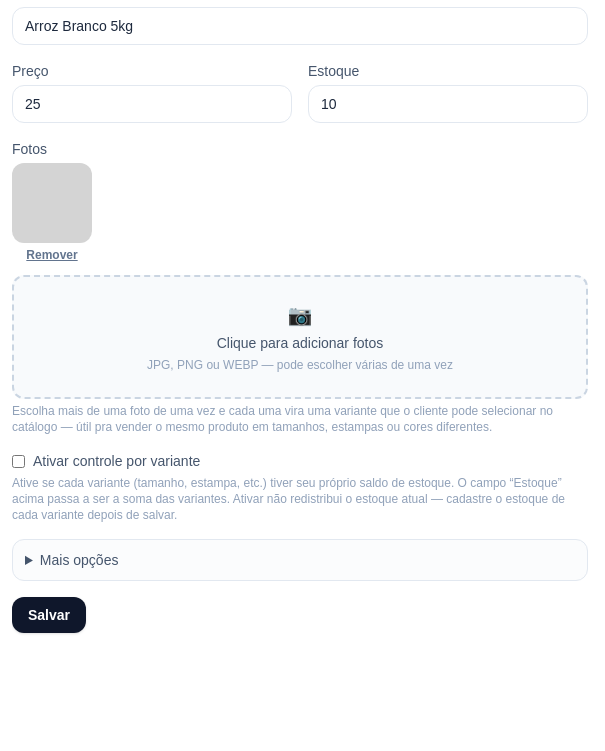
it: ProdutoForm › exibe os campos avançados dentro da seção colapsável ao expandir
The image size is (605, 751).
Click the heading "Mais opções". click: (79, 560)
box: x1=40 y1=552 x2=118 y2=568
(page scrolled)
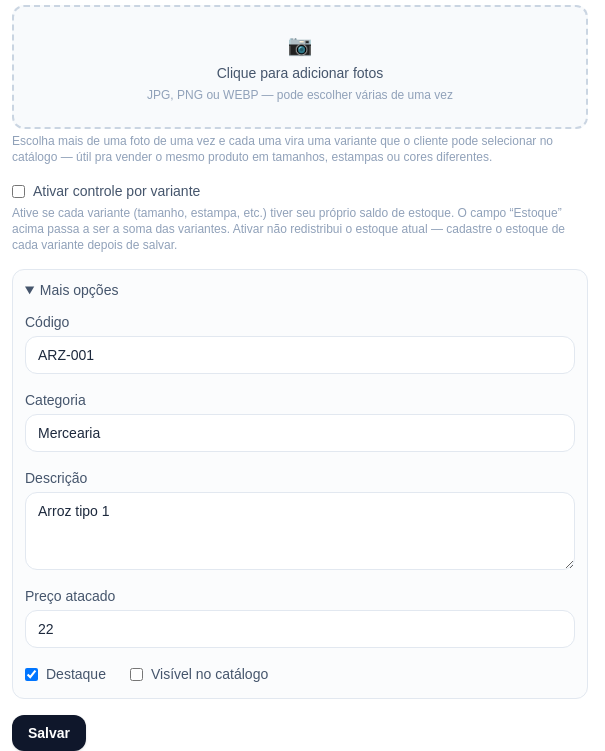
Result: the field labelled "Código" holds "ARZ-001" at x1=25 y1=336 x2=575 y2=374
Result: the field labelled "Categoria" holds "Mercearia" at x1=25 y1=414 x2=575 y2=452
Result: the text box labelled "Descrição" holds "Arroz tipo 1" at x1=25 y1=492 x2=575 y2=570
